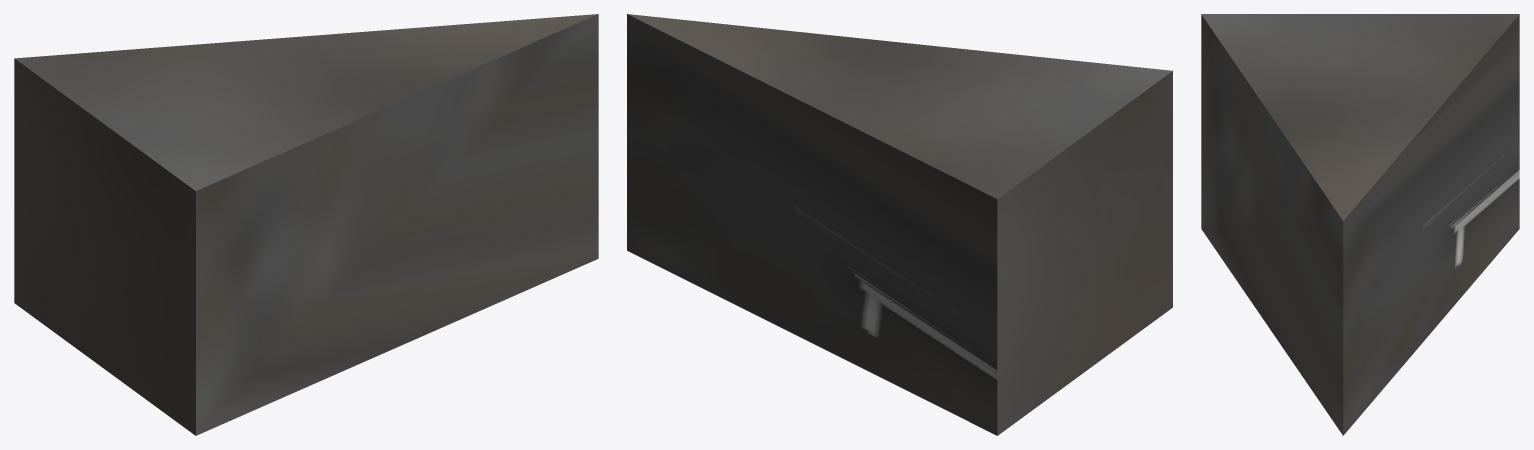
Rendered from ishi_01_10_1.fbx.
3 renders of one model, left to right at view 1: azimuth 30°, elevation 25°; view 2: azimuth 150°, elevation 25°; view 3: azimuth 270°, elevation 25°, orthographic. The views are drawn at different scales.
Parts seen in each view (by area): view 1: polySurface16; view 2: polySurface16; view 3: polySurface16.
Part boxes in pixels (x1=…): polySurface16: x1=14, y1=14, x2=598, y2=435; polySurface16: x1=627, y1=14, x2=1172, y2=435; polySurface16: x1=1201, y1=14, x2=1519, y2=435.
Size of the model in its own units: 9.63 by 4.66 by 6.26.
Materials: 1 (1 with a texture image).
